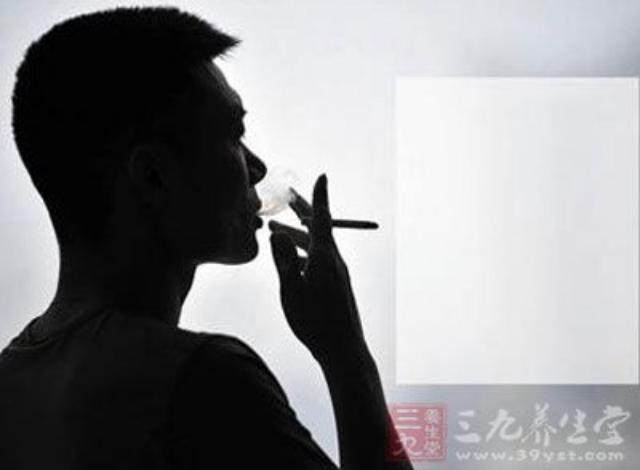Smoking: (296, 209, 379, 231)
